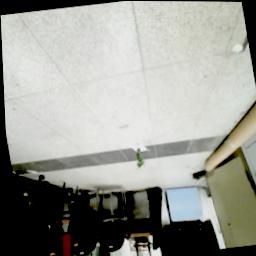herb: (131, 147, 146, 169)
